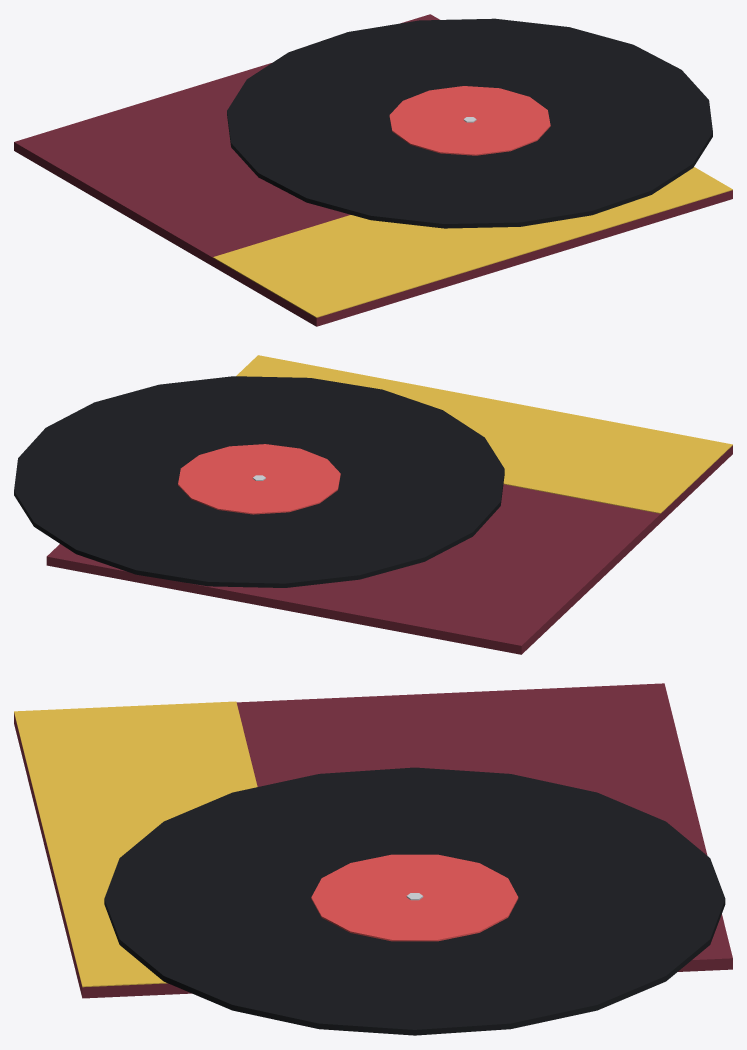
Rendered from vinyl.glb.
The picture shows the model from 3 angles, top to bottom: view 1: azimuth 30°, elevation 25°; view 2: azimuth 150°, elevation 25°; view 3: azimuth 270°, elevation 25°; orthographic projection. The views are drawn at different scales.
Visible parts, largest first — view 1: vinyl; view 2: vinyl; view 3: vinyl.
Part boxes in pixels (bbox=[...]): vinyl: bbox=[14, 14, 732, 326]; vinyl: bbox=[14, 355, 732, 654]; vinyl: bbox=[14, 683, 732, 1035].
Size of the model in its own units: 0.4036 by 0.011 by 0.3473.
